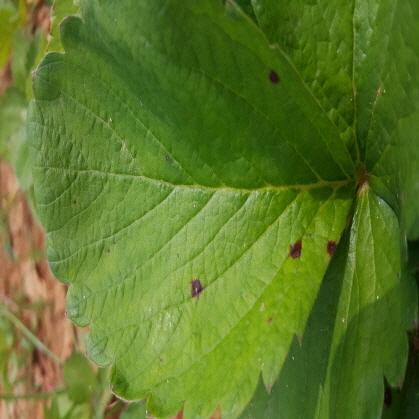Leaf Spot: (26, 0, 362, 418)
